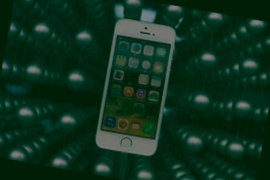iphone: (103, 21, 167, 154)
